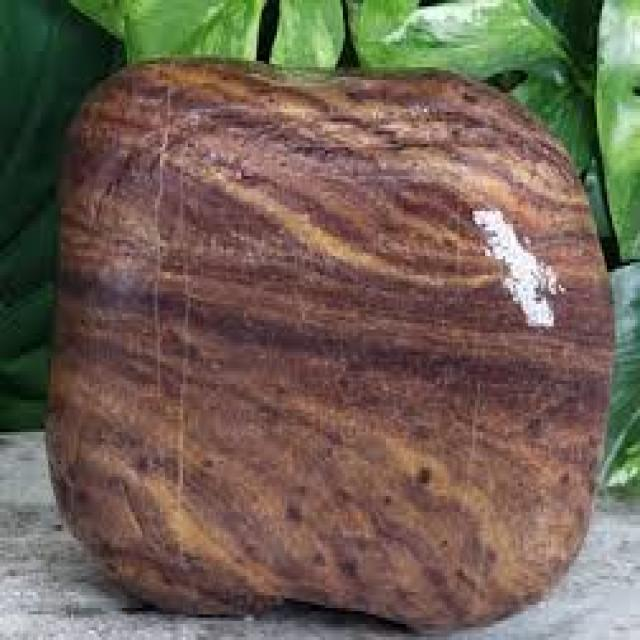Metamorphic: (48, 52, 602, 630)
